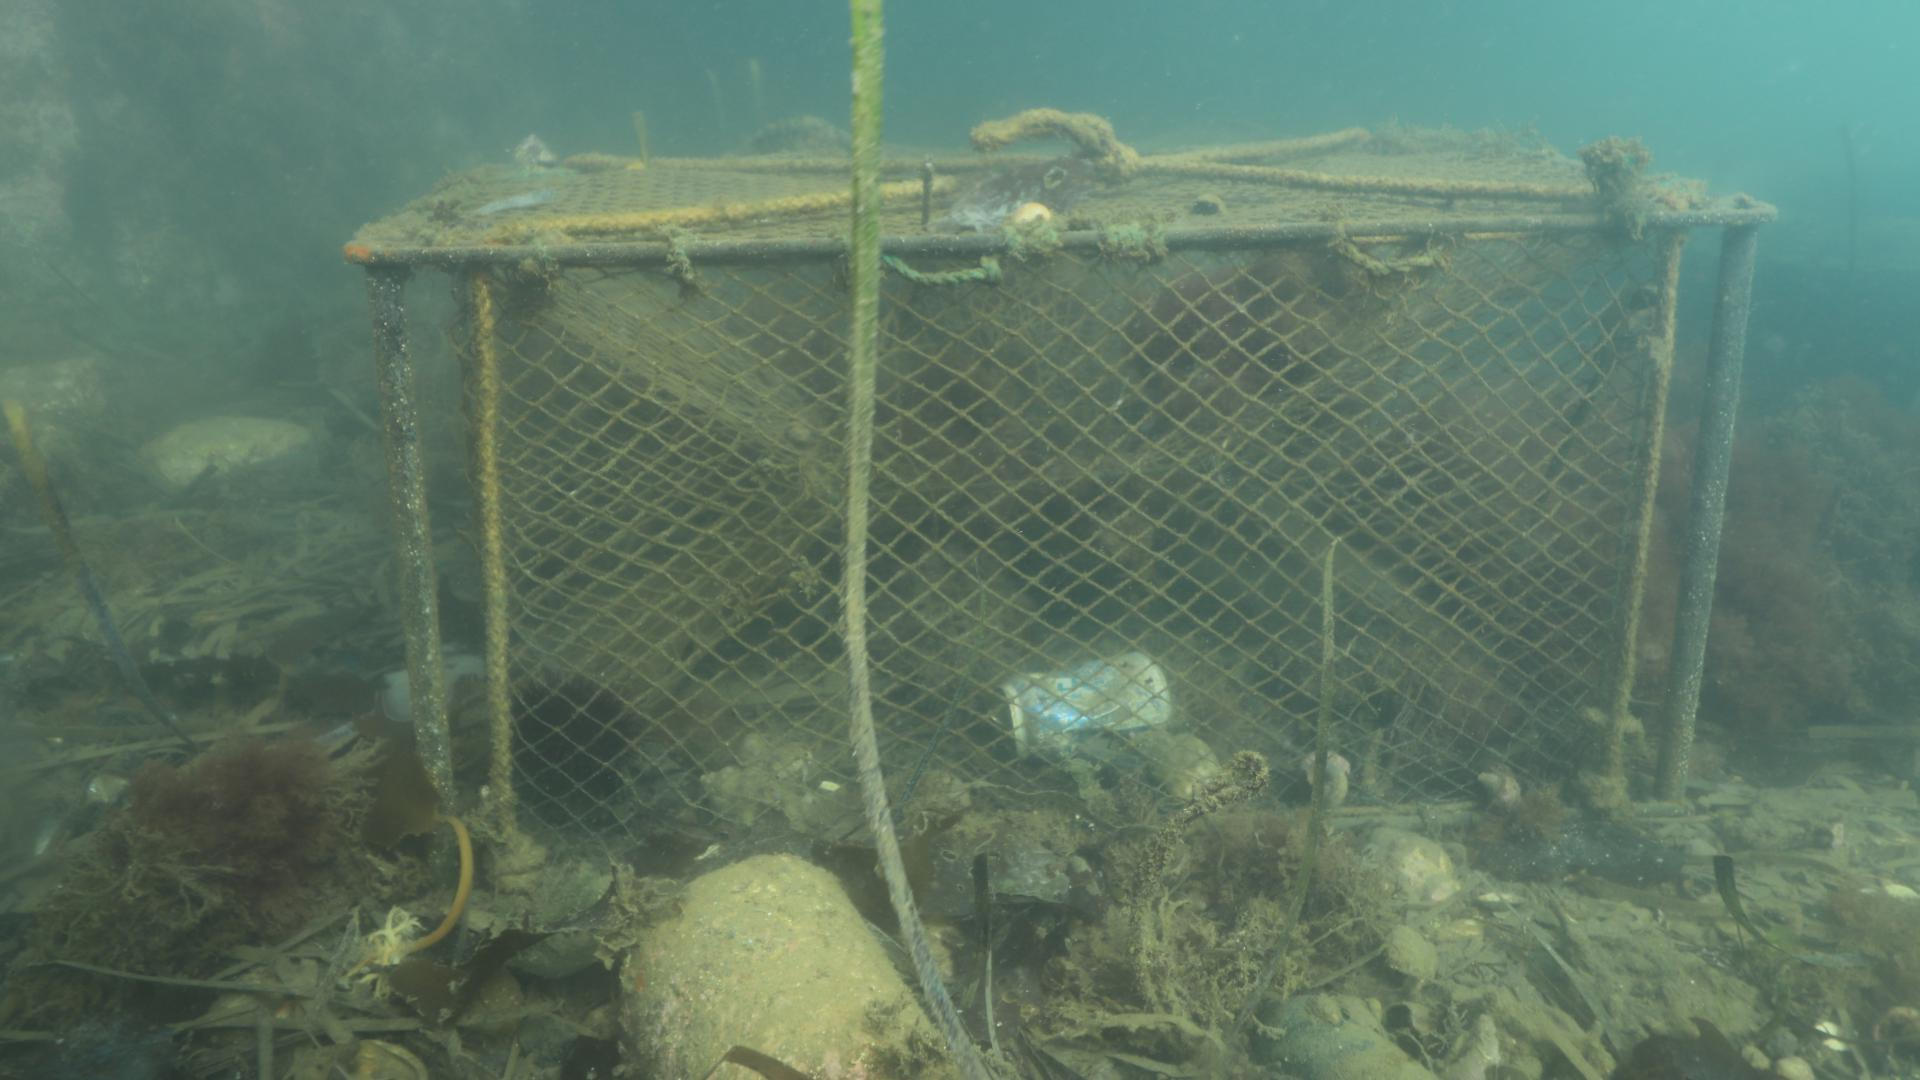bundle of ropes: (964, 102, 1129, 164)
rectangular fish trap: (345, 158, 1780, 907)
